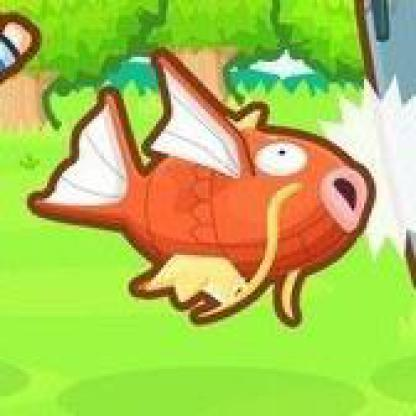Magikarp: (1, 1, 415, 415)
